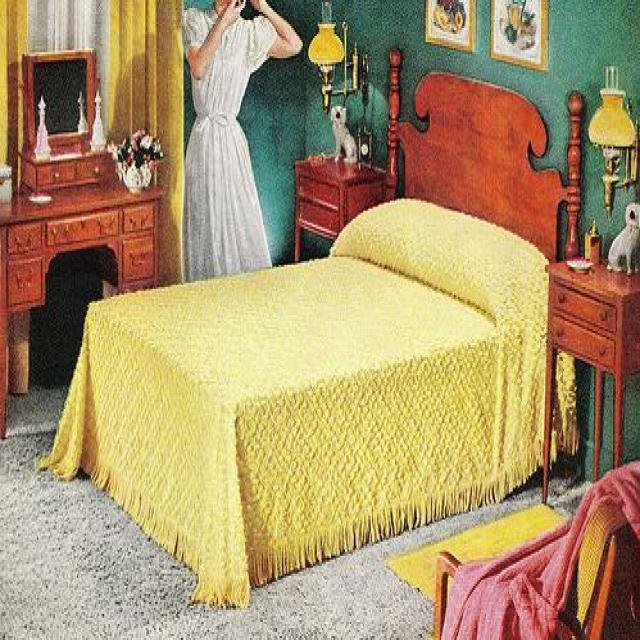bed: (81, 48, 586, 584)
